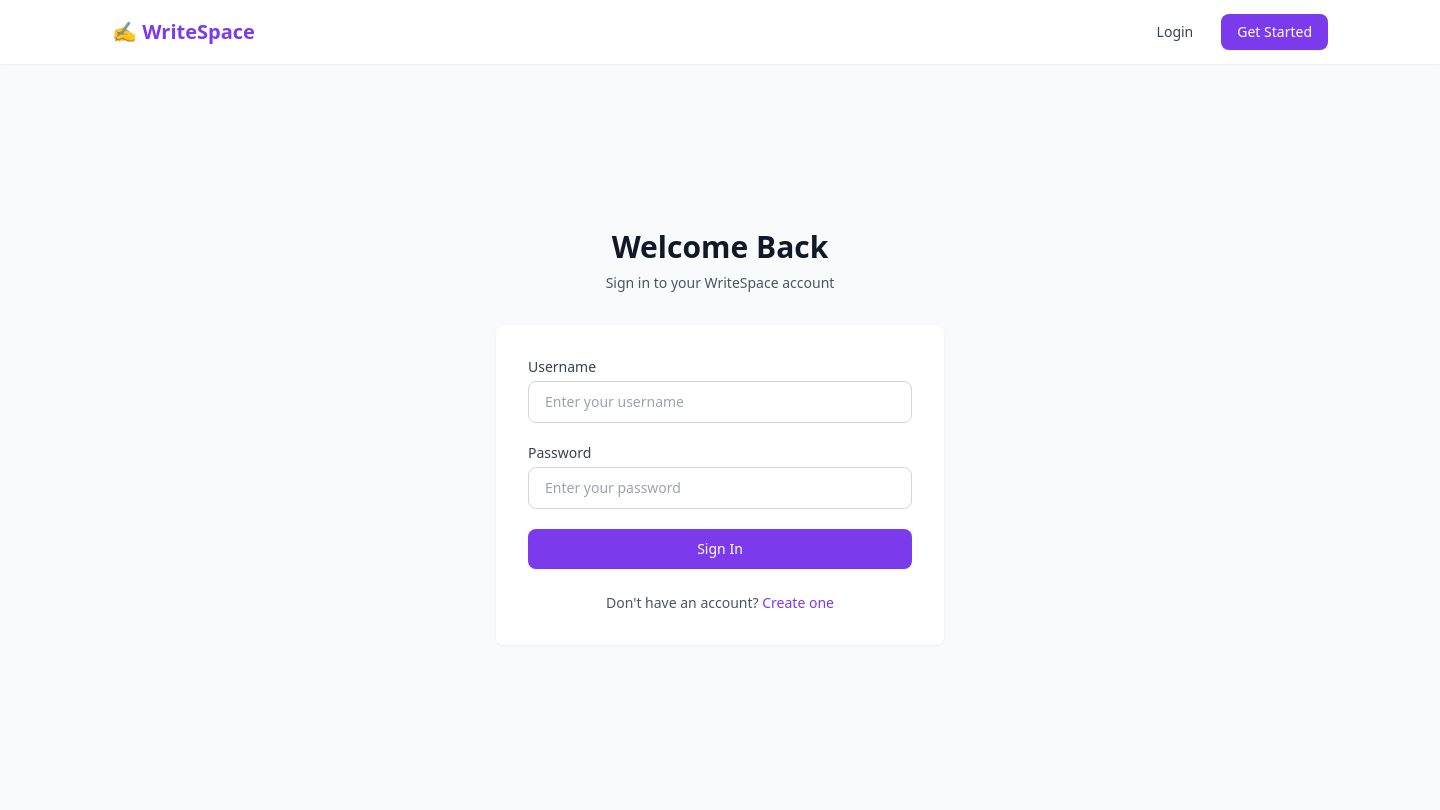
Test: App › Login Page › shows error for invalid credentials
This screenshot has width=1440, height=810.
Type "wrong" into the field labelled "Username" at (720, 402), box [528,381,912,423]
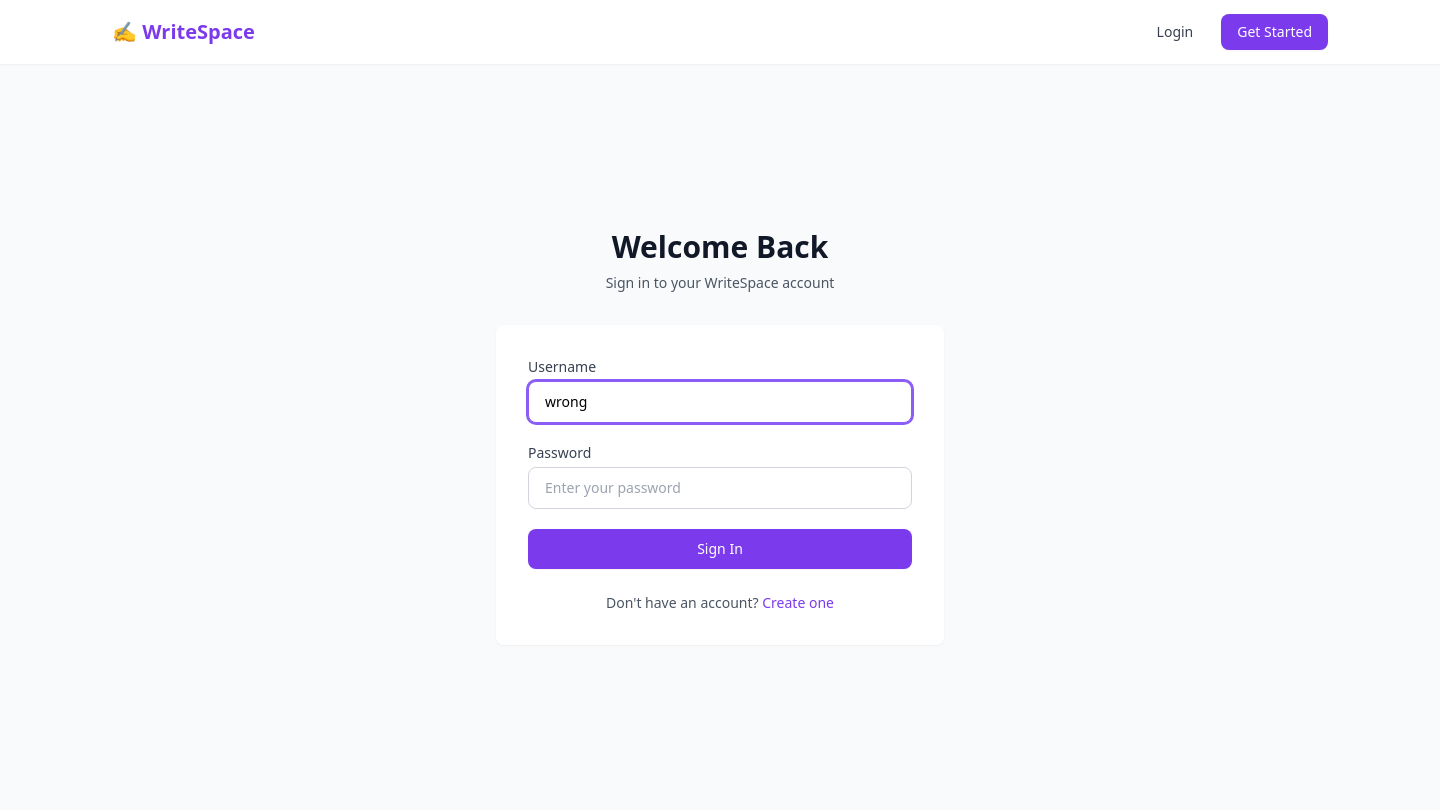
Type "wrong" into the password field labelled "Password" at (720, 488), box [528,467,912,509]
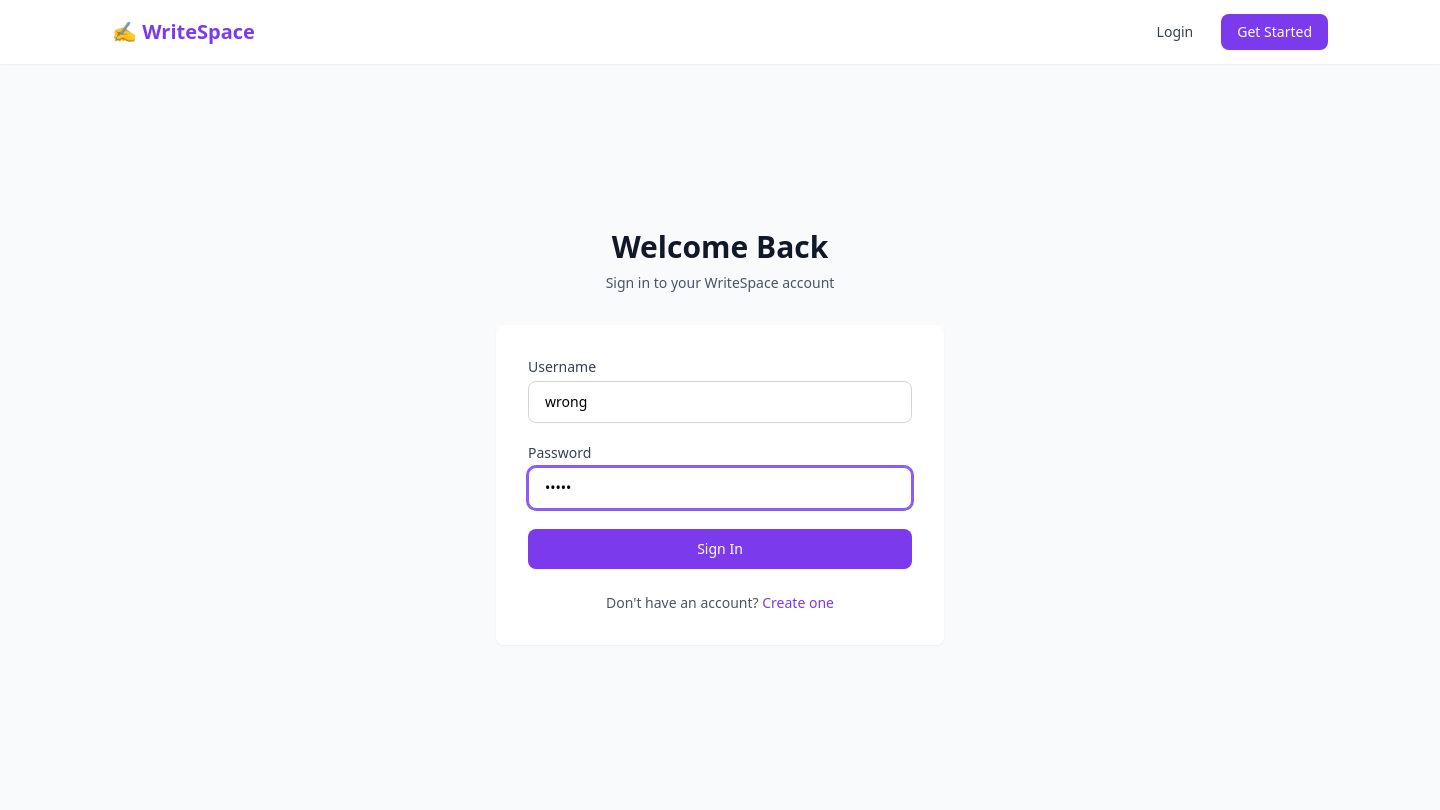
Click the button "Sign In" at (720, 549), box [528,529,912,569]
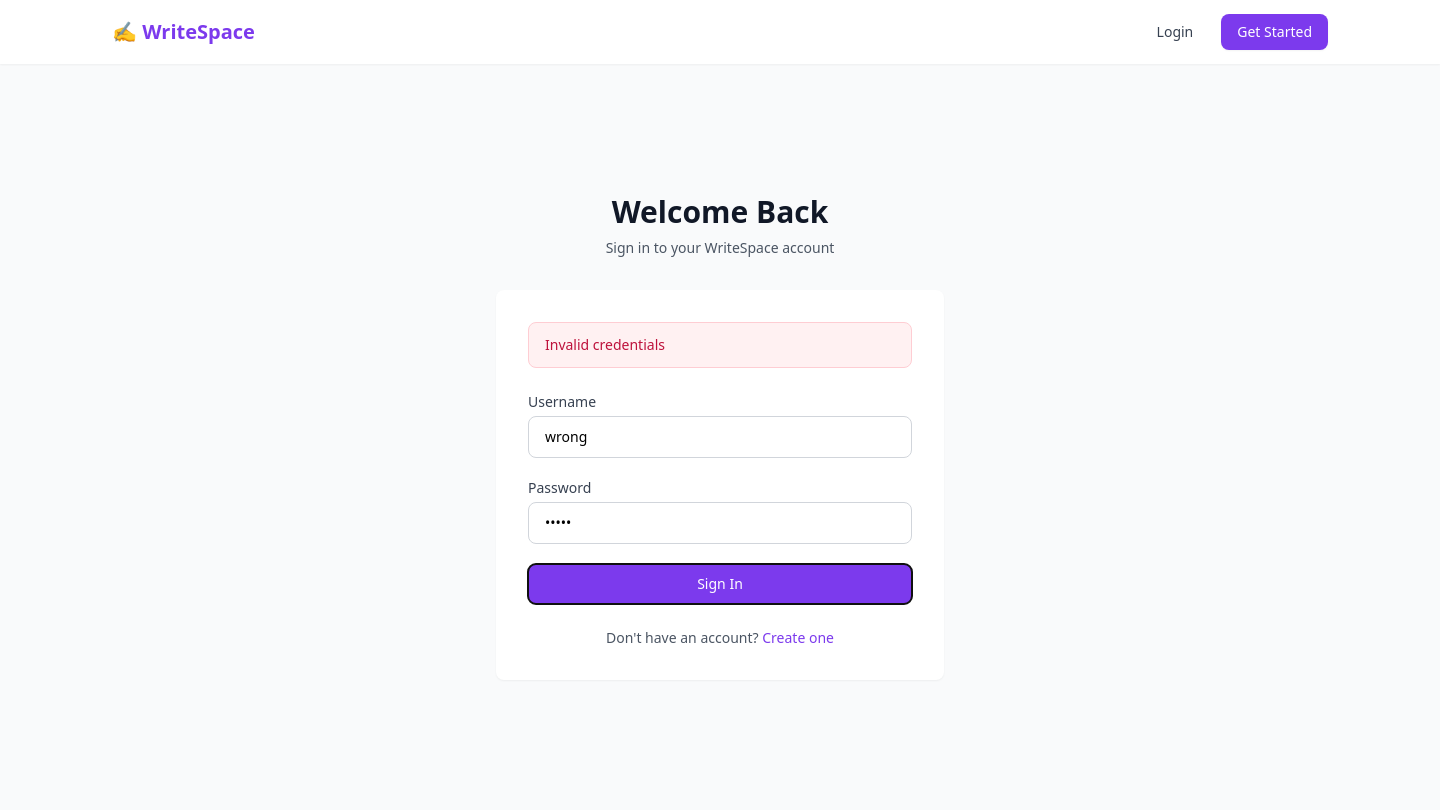
Expected: the text "Invalid credentials" is shown, [528,322,912,368]
